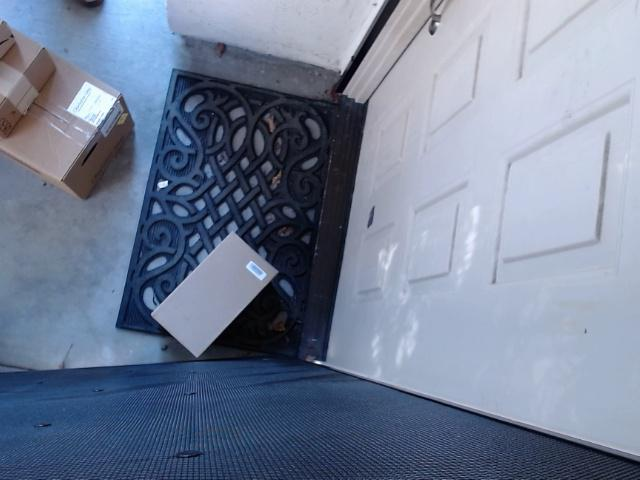box: (0, 16, 132, 204), (138, 218, 301, 358), (0, 12, 67, 131)
